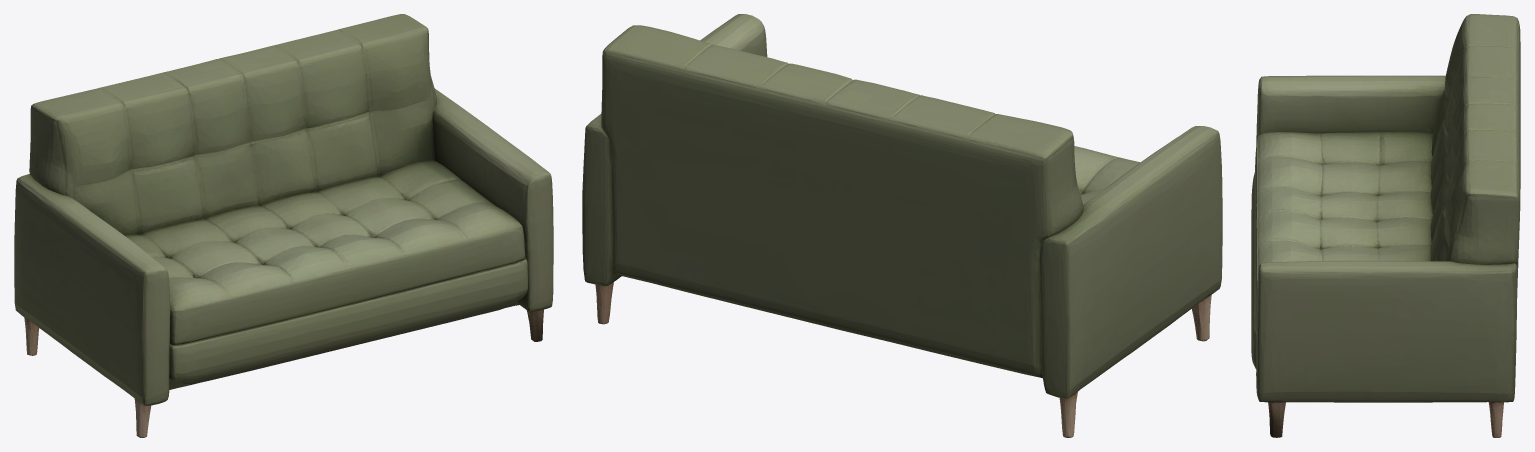
The model's file is u_divan_test_v2 (1).glb.
3 views of the same model, side by side, from view 1: azimuth 30°, elevation 25°; view 2: azimuth 150°, elevation 25°; view 3: azimuth 270°, elevation 25° (orthographic). The views are drawn at different scales.
Parts seen in each view (by area): view 1: world; view 2: world; view 3: world.
Boxes of the visible parts, x1,y1,x2,y2 form: world: [14, 14, 553, 437]; world: [582, 14, 1222, 437]; world: [1251, 14, 1520, 437].
Bounding box in the file's own units: 0.994 × 0.5593 × 0.5678.
Materials: 1 (1 with a texture image).
